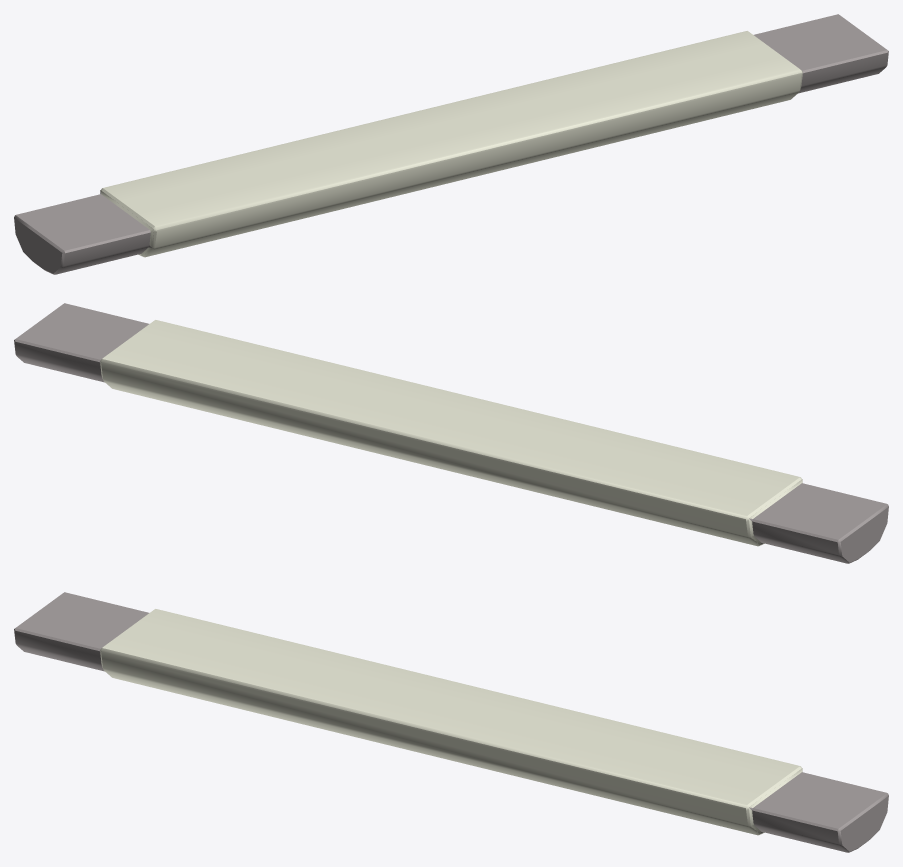
File: Lampe.fbx
3 views of the same model, one above another, from view 1: azimuth 30°, elevation 25°; view 2: azimuth 150°, elevation 25°; view 3: azimuth 330°, elevation 25° (orthographic).
Visible parts, largest first — view 1: Lampe; view 2: Lampe; view 3: Lampe.
Boxes of the visible parts, x1,y1,x2,y2 form: Lampe: (14,14,888,274); Lampe: (14,303,888,563); Lampe: (14,592,888,852).
Bounding box in the file's own units: 267 × 12.89 × 31.06.
